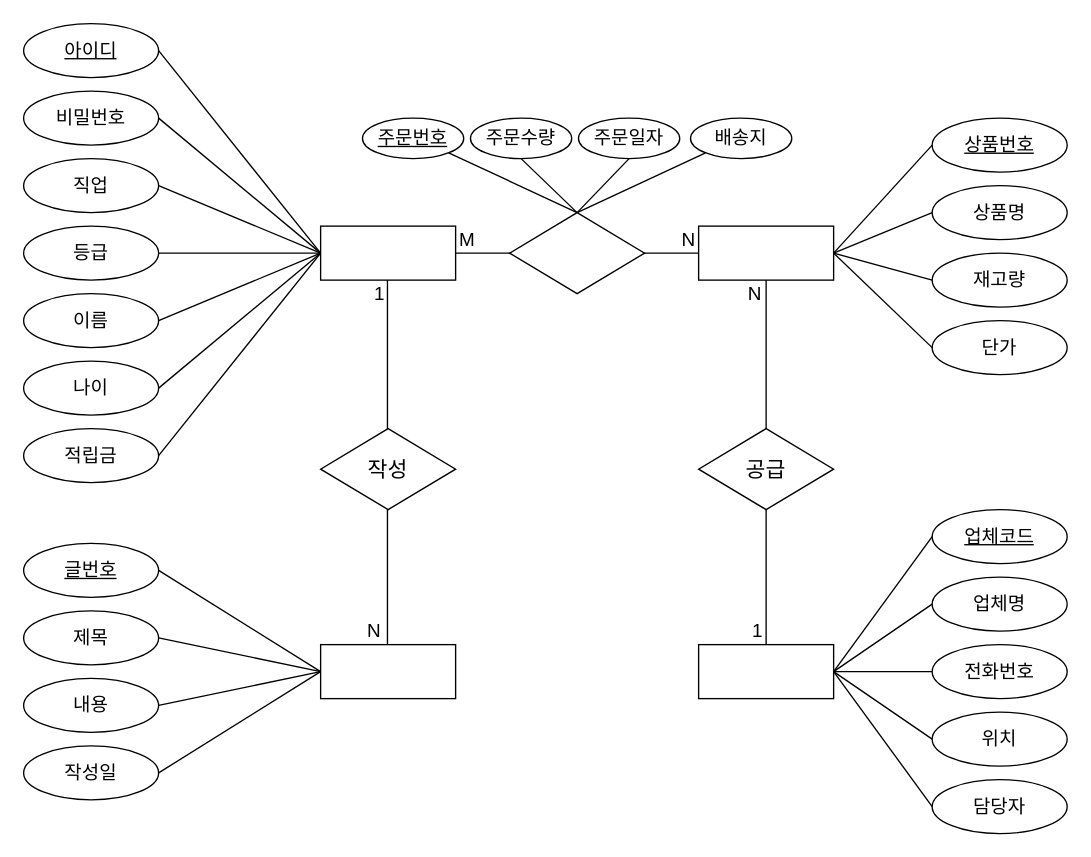
Some shapes in this 1091 by 857 pixel diagram are drawn without their labels. Here are the shapes that lost their labels. From the top down, the box of each, then its label:
(319, 225, 456, 280): 회원
(508, 211, 645, 294): 주문
(697, 225, 834, 280): 상품
(319, 643, 456, 699): 게시글
(697, 643, 834, 699): 제조업체
